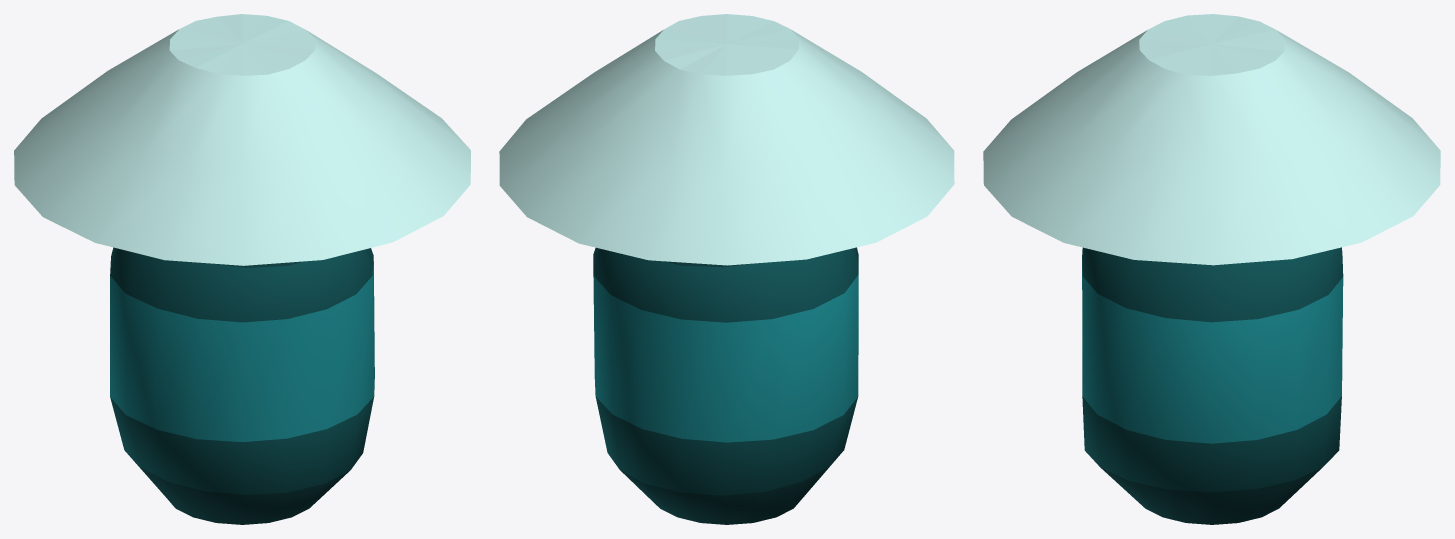
Rendered from Lamp.FBX.
The picture shows the model from 3 angles, left to right: view 1: azimuth 30°, elevation 25°; view 2: azimuth 150°, elevation 25°; view 3: azimuth 270°, elevation 25°; orthographic projection.
Visible parts, largest first — view 1: Cylinder001; view 2: Cylinder001; view 3: Cylinder001.
Part boxes in pixels (x1,y1,x2,y2): Cylinder001: (14,14,470,524); Cylinder001: (499,14,954,524); Cylinder001: (983,14,1440,524).
Bounding box in the file's own units: 177 × 189 × 175.
